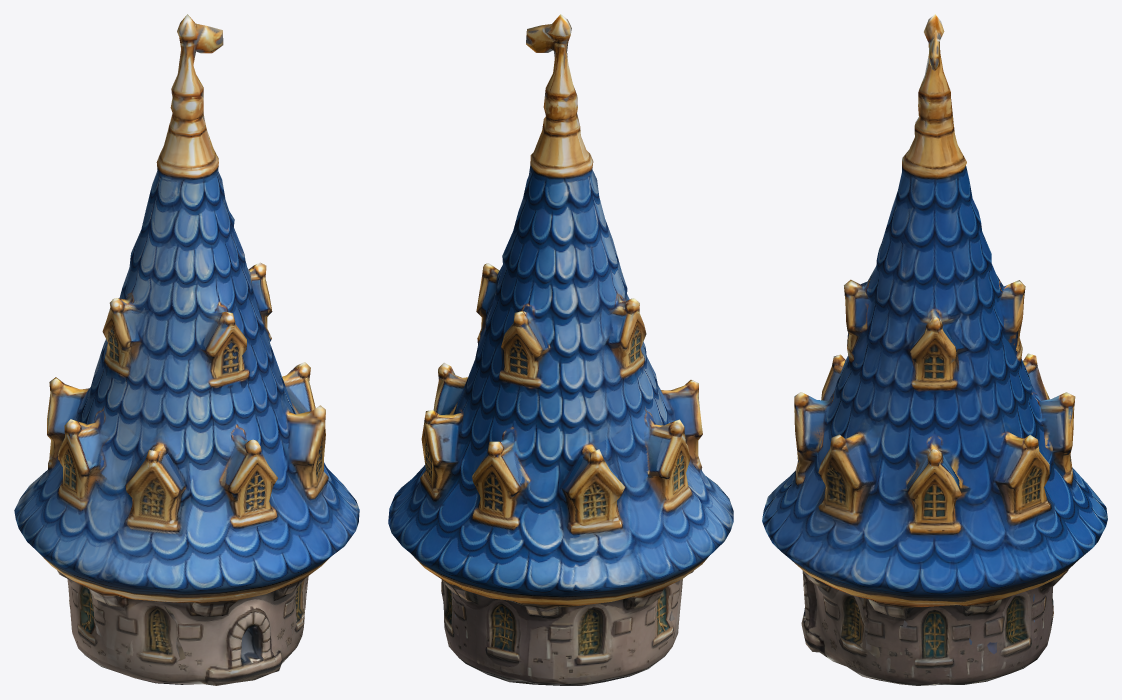
File: 롯데_중앙첨탑.glb
The picture shows the model from 3 angles, left to right: view 1: azimuth 30°, elevation 25°; view 2: azimuth 150°, elevation 25°; view 3: azimuth 270°, elevation 25°; orthographic projection.
Visible parts, largest first — view 1: texture_mapping; view 2: texture_mapping; view 3: texture_mapping.
Part boxes in pixels (x1,y1,x2,y2): texture_mapping: [14, 14, 359, 685]; texture_mapping: [388, 14, 733, 685]; texture_mapping: [762, 14, 1107, 685].
Bounding box in the file's own units: 0.5028 × 1 × 0.5016.
Materials: 1 (1 with a texture image).
